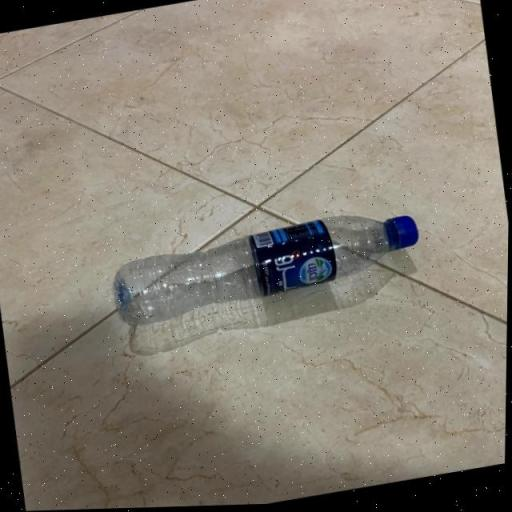plastic: (101, 199, 438, 333)
